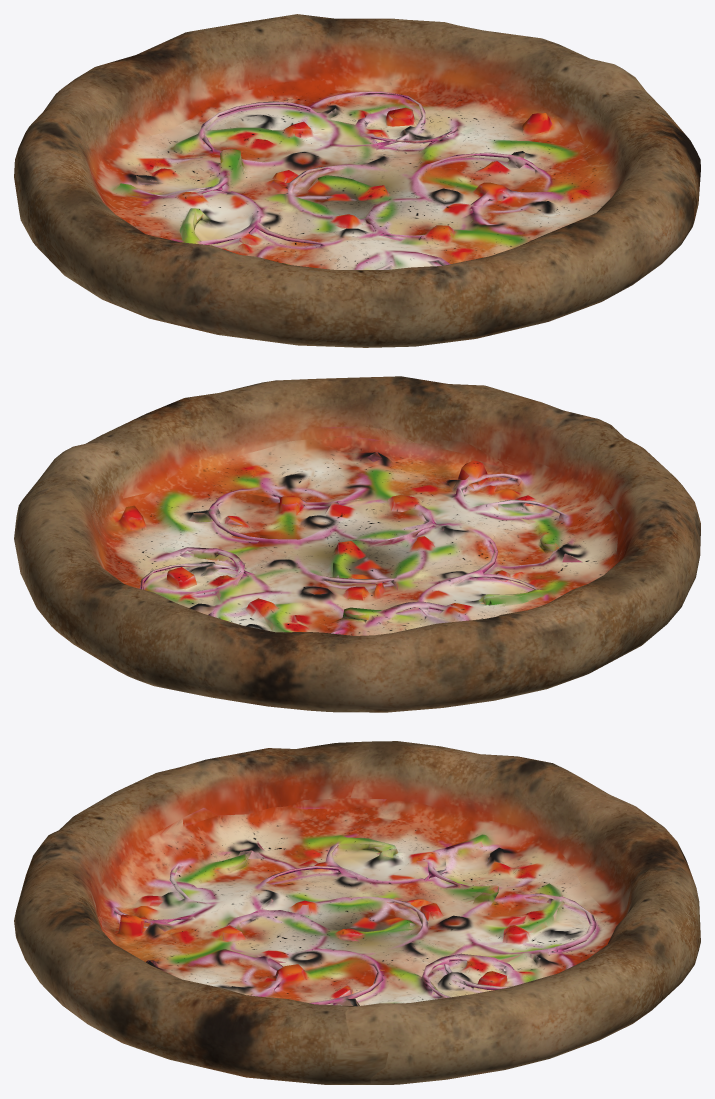
Rendered from SM_Pizza_01c.fbx.
3 renders of one model, top to bottom at view 1: azimuth 30°, elevation 25°; view 2: azimuth 150°, elevation 25°; view 3: azimuth 270°, elevation 25°, orthographic.
Parts seen in each view (by area): view 1: SM_Pizza_01c_LOD0; view 2: SM_Pizza_01c_LOD0; view 3: SM_Pizza_01c_LOD0.
Part boxes in pixels (left/top/right/bottom): SM_Pizza_01c_LOD0: left=14, top=14, right=700, bottom=347; SM_Pizza_01c_LOD0: left=14, top=376, right=700, bottom=712; SM_Pizza_01c_LOD0: left=14, top=741, right=700, bottom=1084.
Size of the model in its own units: 33.34 by 33.08 by 4.45.
